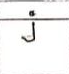anusvara: (29, 11, 35, 17)
